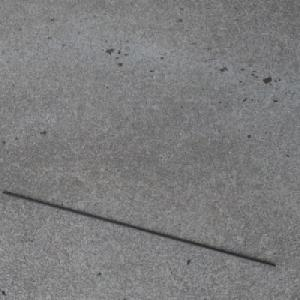LuggagePart: (0, 189, 277, 267)
